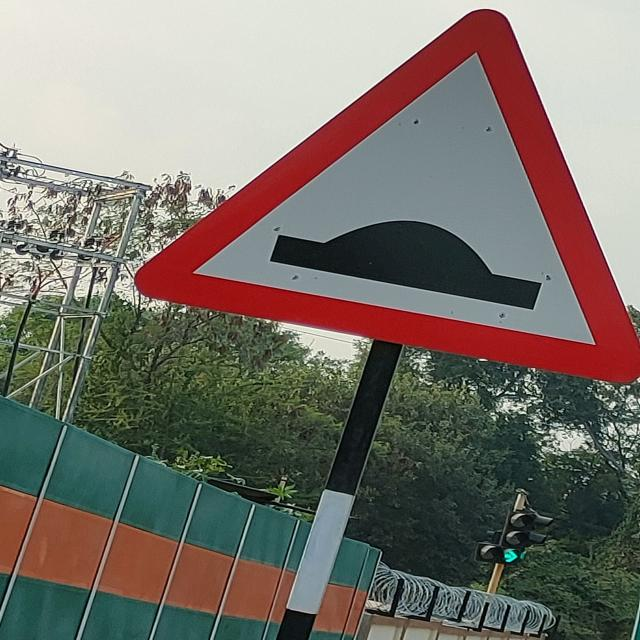horn_prohibited: (132, 6, 640, 380)
